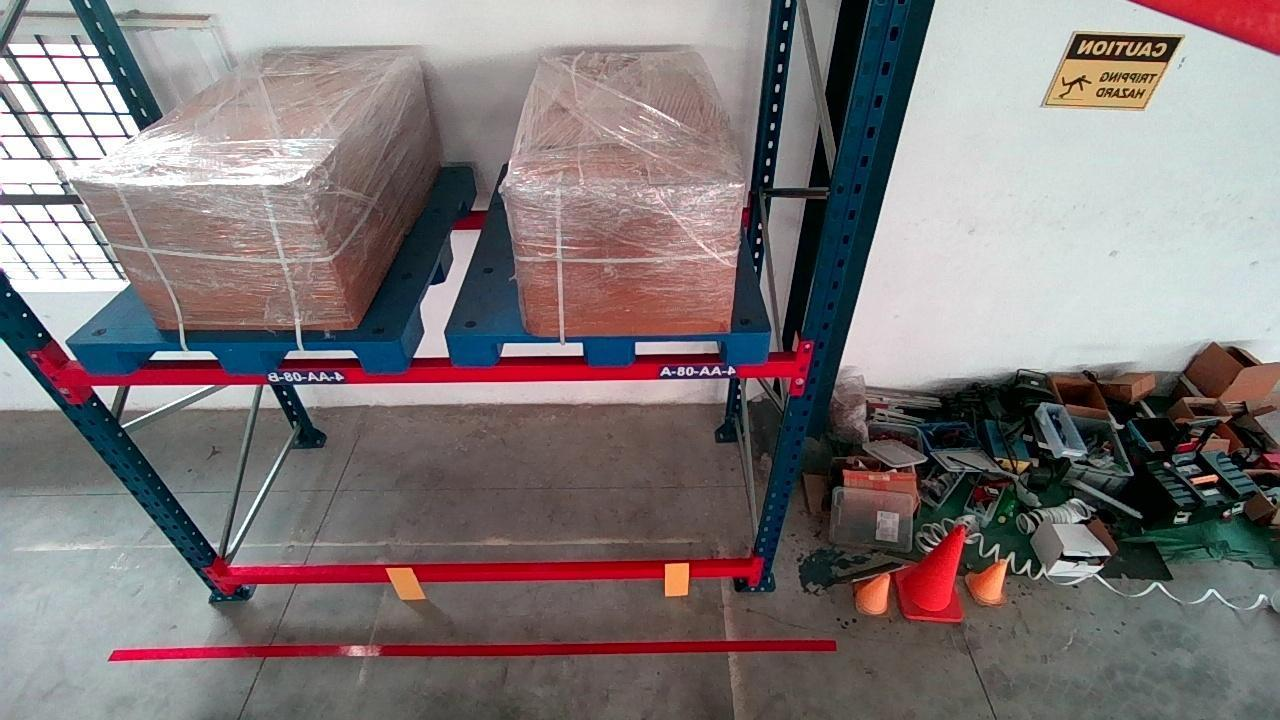h_rack: (62, 354, 793, 387), (221, 562, 755, 589)
orange_strip: (387, 565, 425, 599), (661, 561, 693, 595)
red_line: (112, 642, 831, 665)
small_pallet: (85, 339, 406, 374), (458, 333, 772, 366)
